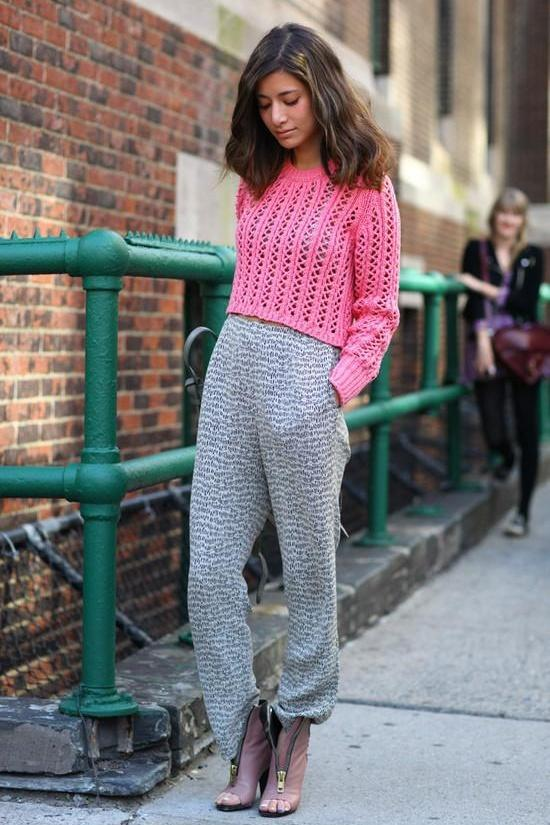pants: (186, 313, 355, 762)
sweater: (228, 151, 402, 405)
